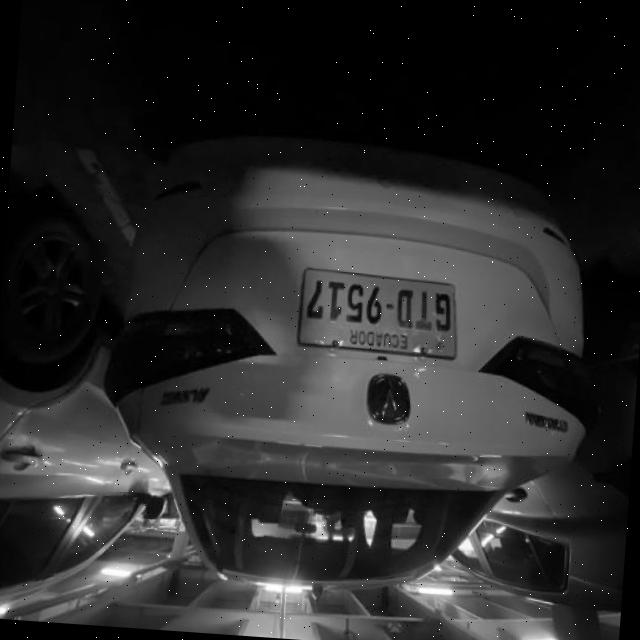Placa: (301, 273, 454, 356)
